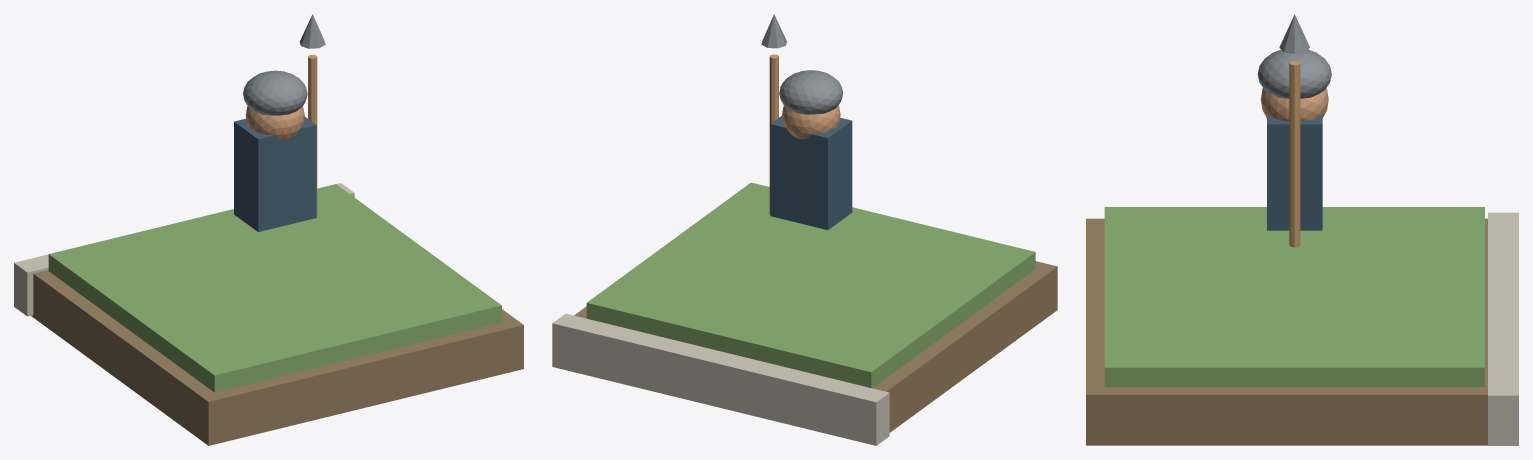
The model's file is 15_BinhSi.glb.
3 views of the same model, side by side, from view 1: azimuth 30°, elevation 25°; view 2: azimuth 150°, elevation 25°; view 3: azimuth 270°, elevation 25° (orthographic). The views are drawn at different scales.
Parts seen in each view (by area): view 1: grass, soil, body, helmet, border, head, spear, tip; view 2: grass, border, soil, body, helmet, head, spear, tip; view 3: grass, soil, border, body, helmet, spear, head, tip.
Part boxes in pixels (x1,y1,x2,y2): grass: (48,184,501,392); soil: (31,270,523,445); body: (234,117,316,232); helmet: (243,70,307,115); border: (14,183,354,316); head: (245,106,304,140); spear: (308,54,317,215); tip: (299,14,325,48); grass: (586,182,1035,388); border: (552,313,889,445); soil: (574,261,1057,432); body: (770,116,852,229); helmet: (779,70,843,114); head: (782,105,840,138); spear: (769,54,778,214); tip: (761,14,786,48); grass: (1104,207,1484,387); soil: (1086,218,1487,445); border: (1488,212,1518,445); body: (1267,115,1322,230); helmet: (1257,49,1331,98); spear: (1289,60,1300,247); head: (1260,88,1328,121); tip: (1279,14,1309,53).
Size of the model in its own units: 1.4 by 1.3 by 1.4.
